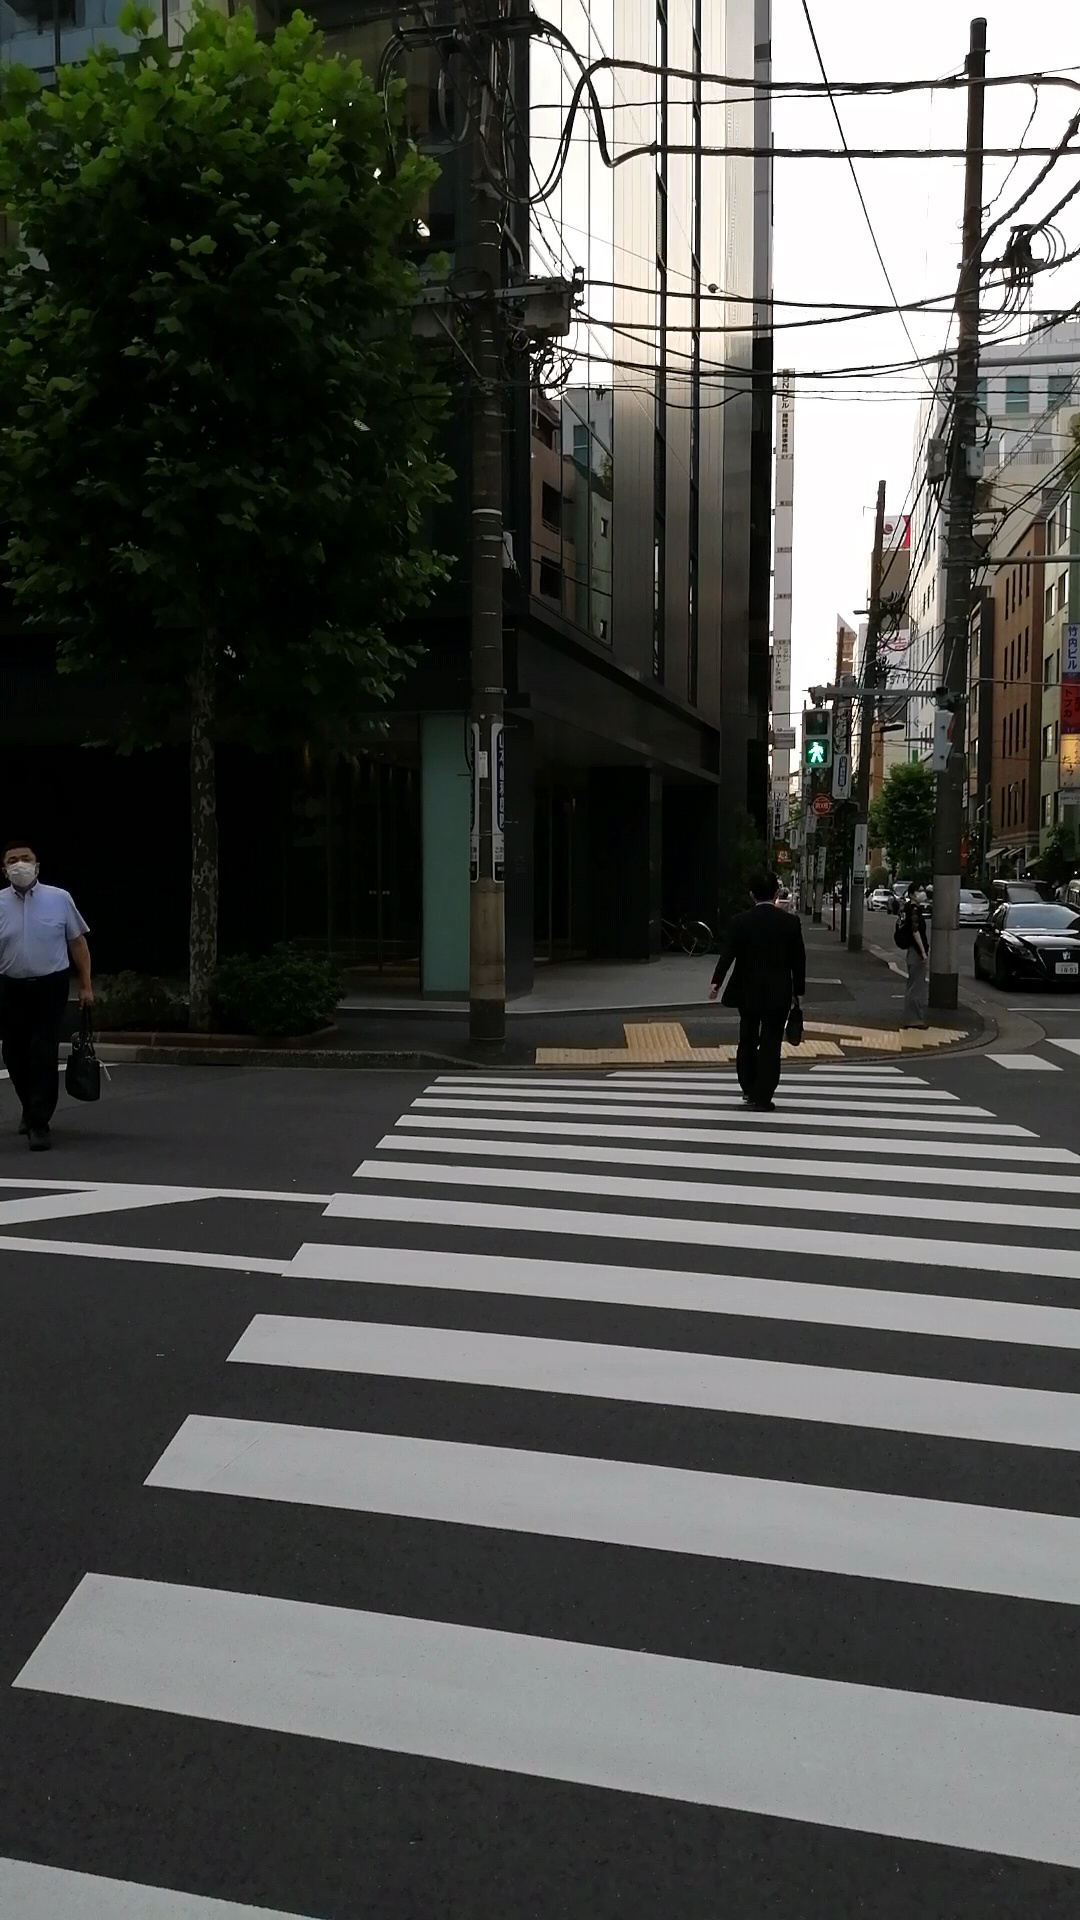green: (800, 708, 832, 767)
